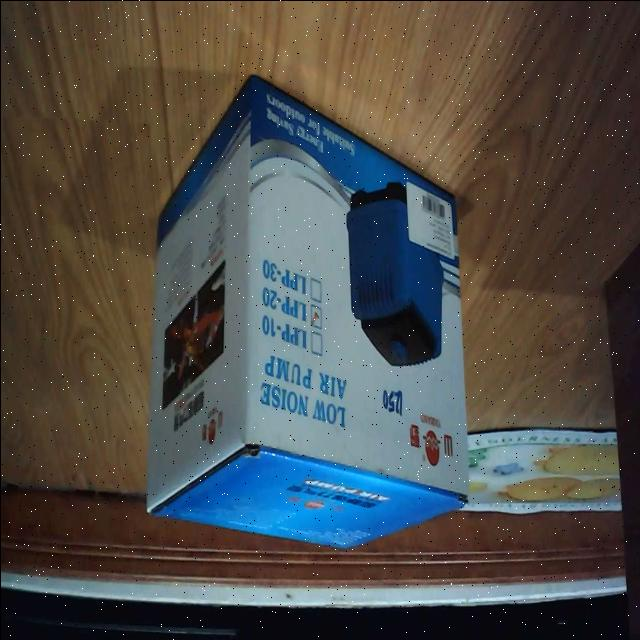YAMANO_LPP_20: (132, 64, 474, 572)
